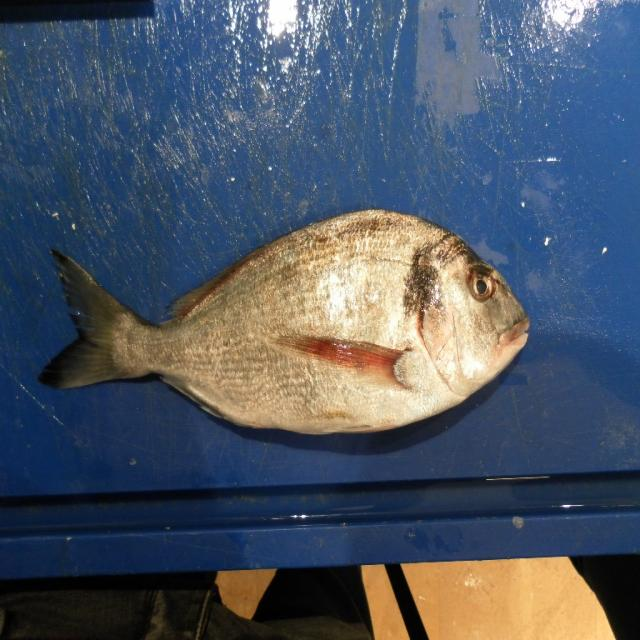Gilt-Head-Bream-c-ipura-: (38, 208, 530, 440)
